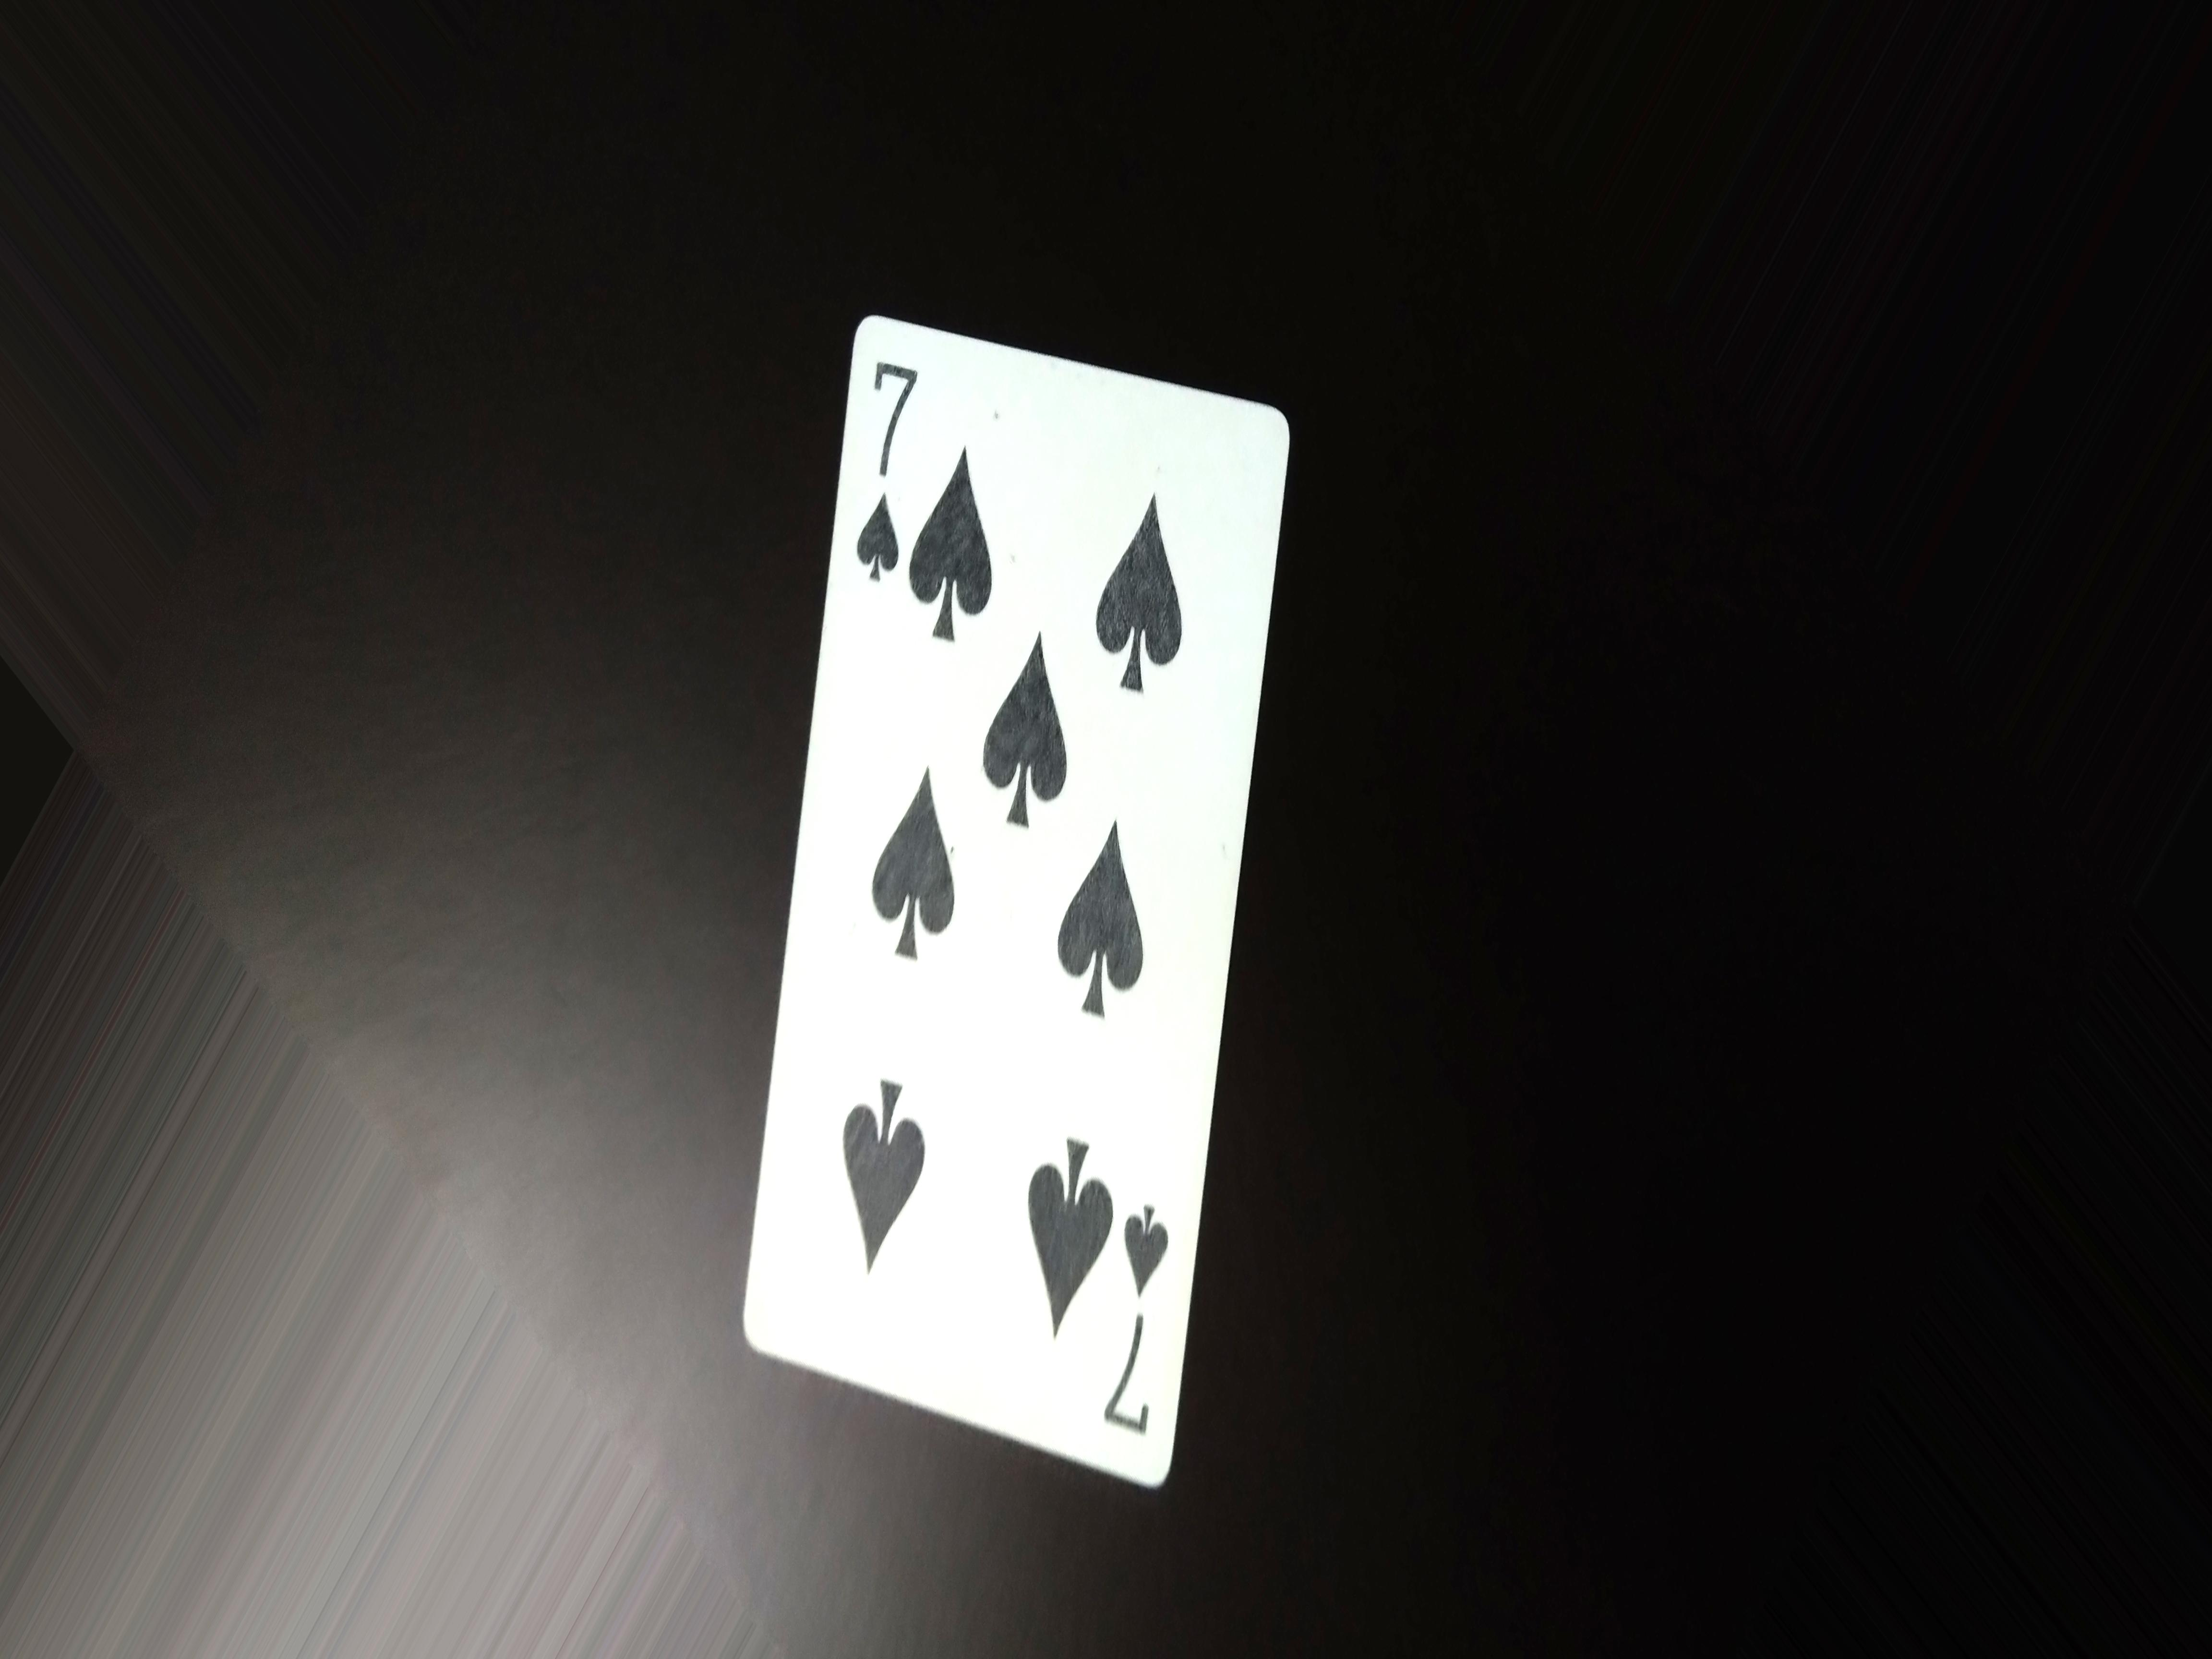7S: (1096, 1166, 1179, 1446)
